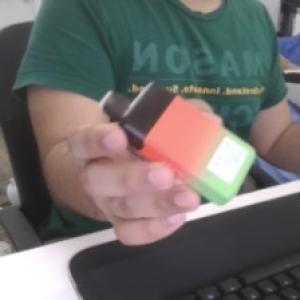Swift-E-Ciggirate: (97, 78, 261, 202)
